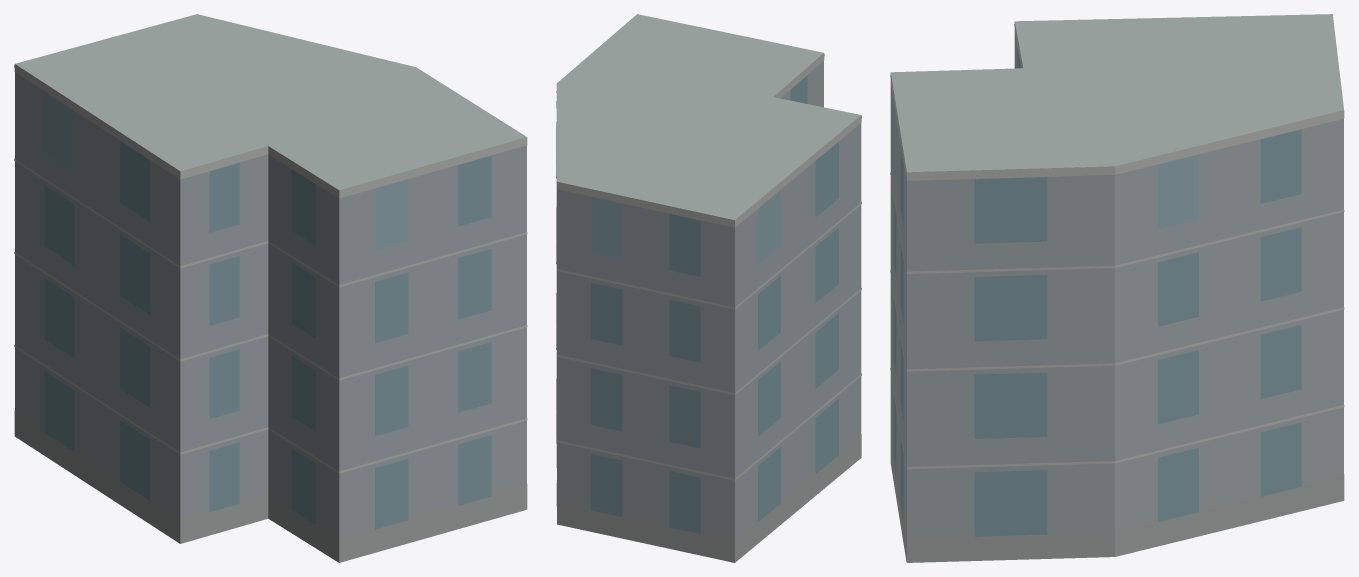
The model's file is survey-upis-32612030.glb.
The picture shows the model from 3 angles, left to right: view 1: azimuth 30°, elevation 25°; view 2: azimuth 150°, elevation 25°; view 3: azimuth 270°, elevation 25°; orthographic projection. The views are drawn at different scales.
Parts seen in each view (by area): view 1: survey-upis-32612030.tmp; view 2: survey-upis-32612030.tmp; view 3: survey-upis-32612030.tmp.
Part boxes in pixels (box(x1,y1,x2,y2)): survey-upis-32612030.tmp: box(14, 14, 527, 562); survey-upis-32612030.tmp: box(556, 14, 861, 562); survey-upis-32612030.tmp: box(890, 14, 1344, 562).
Bounding box in the file's own units: 9.67 × 11.1 × 11.7.
